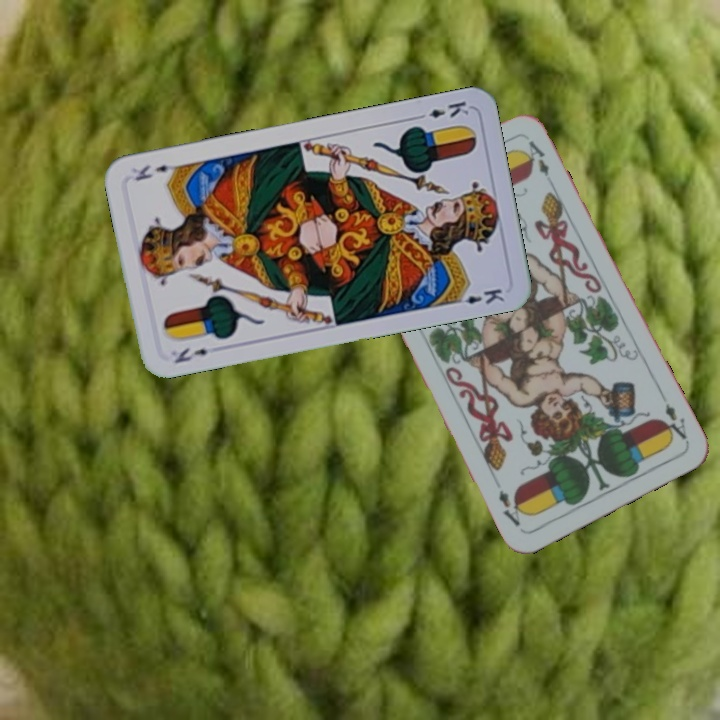EA: (658, 400, 689, 442)
EK: (412, 97, 471, 122), (170, 343, 211, 366)
